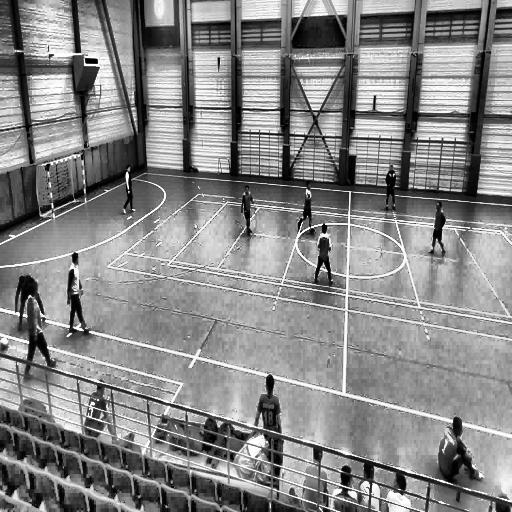ball: (0, 334, 8, 350)
player: (21, 282, 56, 378), (67, 254, 91, 334), (14, 274, 46, 331), (314, 223, 332, 285), (426, 200, 445, 256), (296, 180, 313, 232), (241, 184, 253, 236), (123, 162, 134, 212), (384, 165, 395, 210)
